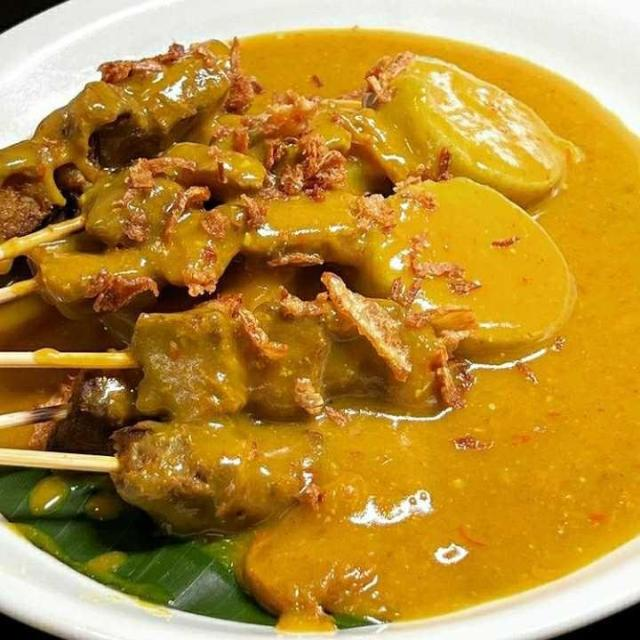Sate: (4, 29, 425, 640)
